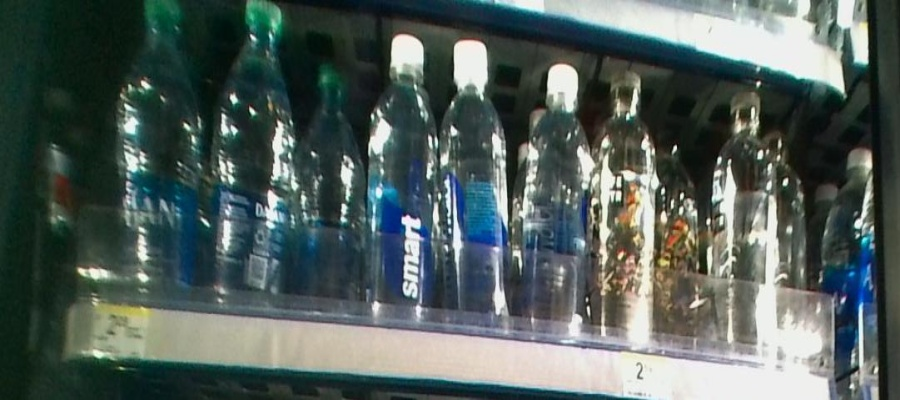bottle: (110, 4, 201, 308), (208, 4, 293, 313), (440, 37, 510, 329), (370, 28, 435, 329), (523, 58, 595, 329), (297, 55, 363, 313), (715, 85, 774, 355), (598, 71, 654, 346), (659, 135, 700, 360)
